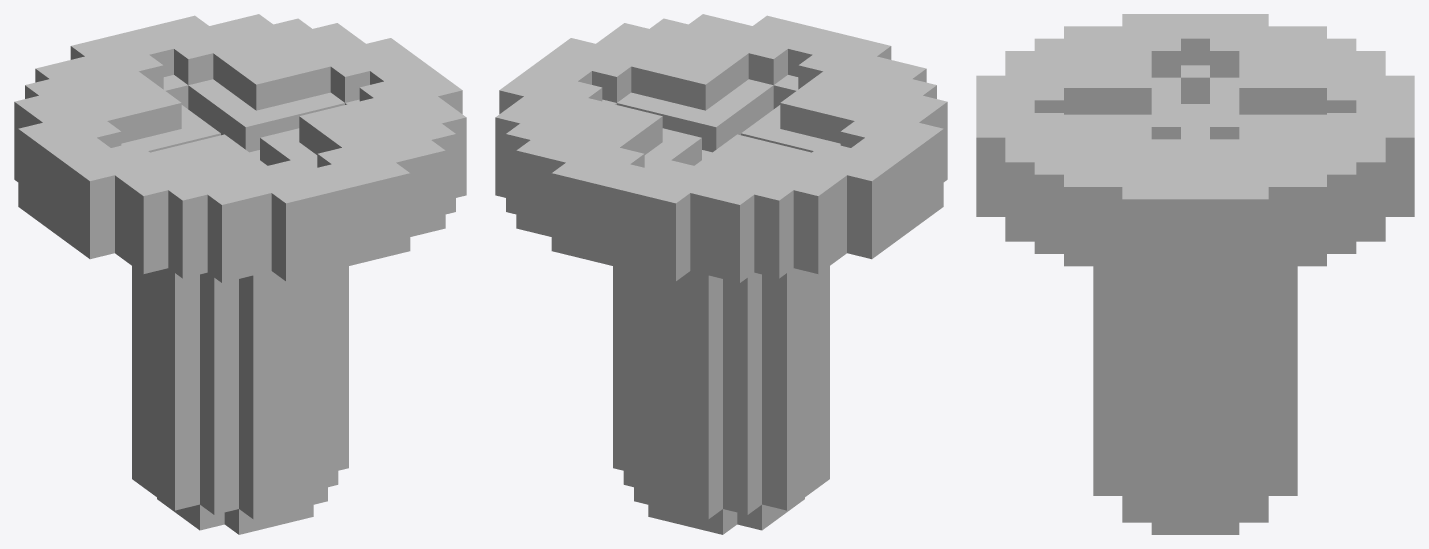
The model's file is Coin2.fbx.
3 renders of one model, left to right at view 1: azimuth 30°, elevation 25°; view 2: azimuth 150°, elevation 25°; view 3: azimuth 270°, elevation 25°, orthographic.
Visible parts, largest first — view 1: Matrix; view 2: Matrix; view 3: Matrix.
Part boxes in pixels (box(x1,y1,x2,y2)): Matrix: box(14, 14, 466, 534); Matrix: box(495, 14, 947, 534); Matrix: box(976, 14, 1414, 534).
Size of the model in its own units: 15 by 15 by 15.
1 material, 1 textured.
